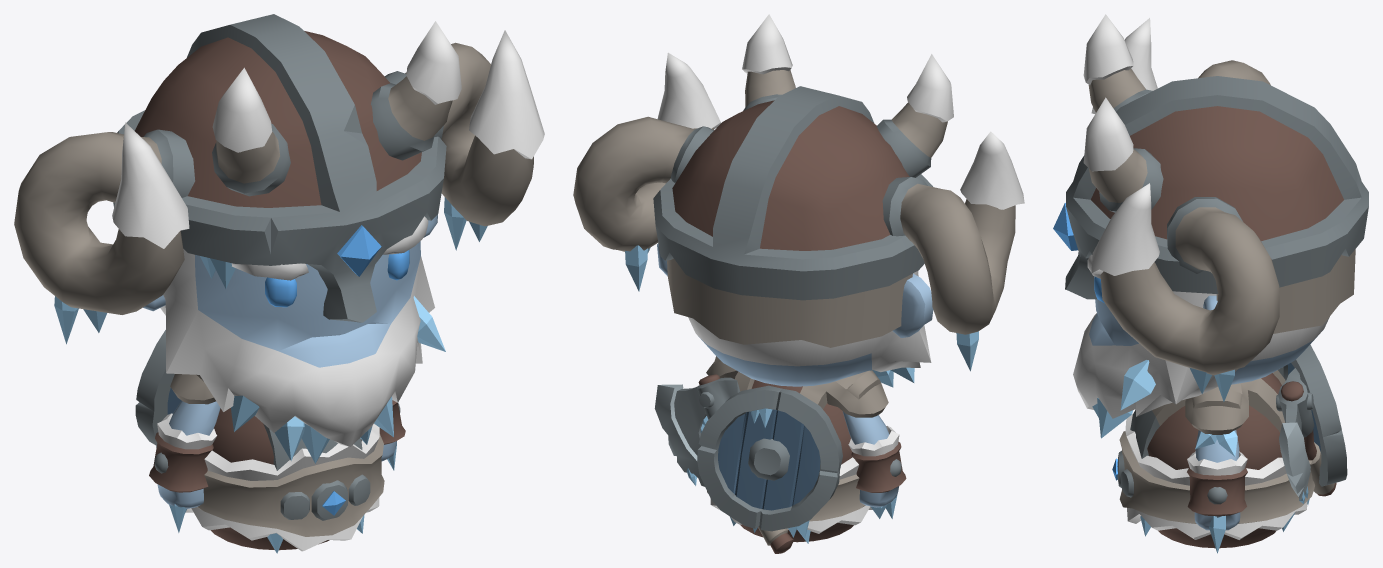
The model's file is character_jotunnwarrior.gltf.
3 views of the same model, side by side, from view 1: azimuth 30°, elevation 25°; view 2: azimuth 150°, elevation 25°; view 3: azimuth 270°, elevation 25° (orthographic). The views are drawn at different scales.
Visible parts, largest first — view 1: character_jotunnwarrior_head, character_jotunnwarrior_body, character_jotunnwarrior_armRight, character_jotunnwarrior_armLeft; view 2: character_jotunnwarrior_head, character_jotunnwarrior_body, character_jotunnwarrior_armRight; view 3: character_jotunnwarrior_head, character_jotunnwarrior_body, character_jotunnwarrior_armLeft.
Part boxes in pixels (x1,y1,x2,y2): character_jotunnwarrior_head: (14,14,544,463); character_jotunnwarrior_body: (135,330,384,553); character_jotunnwarrior_armRight: (149,400,220,532); character_jotunnwarrior_armLeft: (379,400,405,470); character_jotunnwarrior_head: (573,14,1024,387); character_jotunnwarrior_body: (654,356,888,553); character_jotunnwarrior_armRight: (842,411,906,518); character_jotunnwarrior_head: (1053,14,1368,438); character_jotunnwarrior_body: (1112,344,1347,548); character_jotunnwarrior_armLeft: (1187,430,1247,553).
Bounding box in the file's own units: 1.95 × 2.02 × 1.24.
